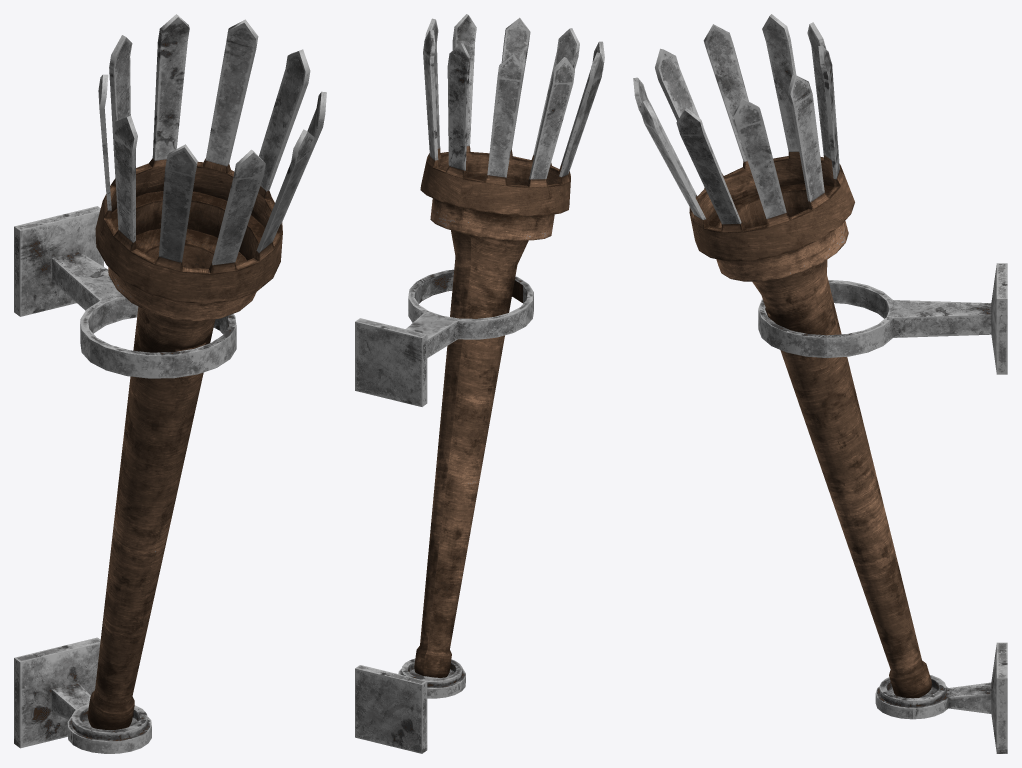
File: torch.gltf
3 views of the same model, side by side, from view 1: azimuth 30°, elevation 25°; view 2: azimuth 150°, elevation 25°; view 3: azimuth 270°, elevation 25° (orthographic). The views are drawn at different scales.
Visible parts, largest first — view 1: coffin___graves:Torch_low, coffin___graves:Torch_base_low_coffin___graves:StingrayPBS1_; view 2: coffin___graves:Torch_low, coffin___graves:Torch_base_low_coffin___graves:StingrayPBS1_; view 3: coffin___graves:Torch_low, coffin___graves:Torch_base_low_coffin___graves:StingrayPBS1_.
Boxes of the visible parts, bbox=[...] form: coffin___graves:Torch_low: bbox=[87, 14, 326, 729]; coffin___graves:Torch_base_low_coffin___graves:StingrayPBS1_: bbox=[14, 206, 236, 753]; coffin___graves:Torch_low: bbox=[414, 14, 604, 677]; coffin___graves:Torch_base_low_coffin___graves:StingrayPBS1_: bbox=[355, 269, 533, 753]; coffin___graves:Torch_low: bbox=[633, 14, 931, 698]; coffin___graves:Torch_base_low_coffin___graves:StingrayPBS1_: bbox=[758, 263, 1007, 753].
Size of the model in its own units: 5.92 by 22.74 by 11.07.
Materials: 1 (1 with a texture image).
